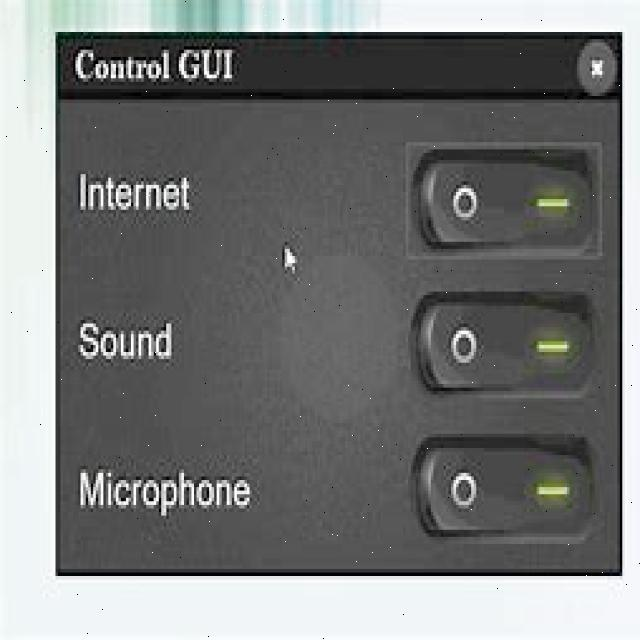button: (576, 34, 621, 96)
icon: (71, 41, 240, 89)
label: (77, 464, 261, 514), (70, 309, 182, 378), (72, 162, 194, 223)
switch: (400, 138, 605, 263), (408, 288, 606, 408), (407, 429, 606, 546)
